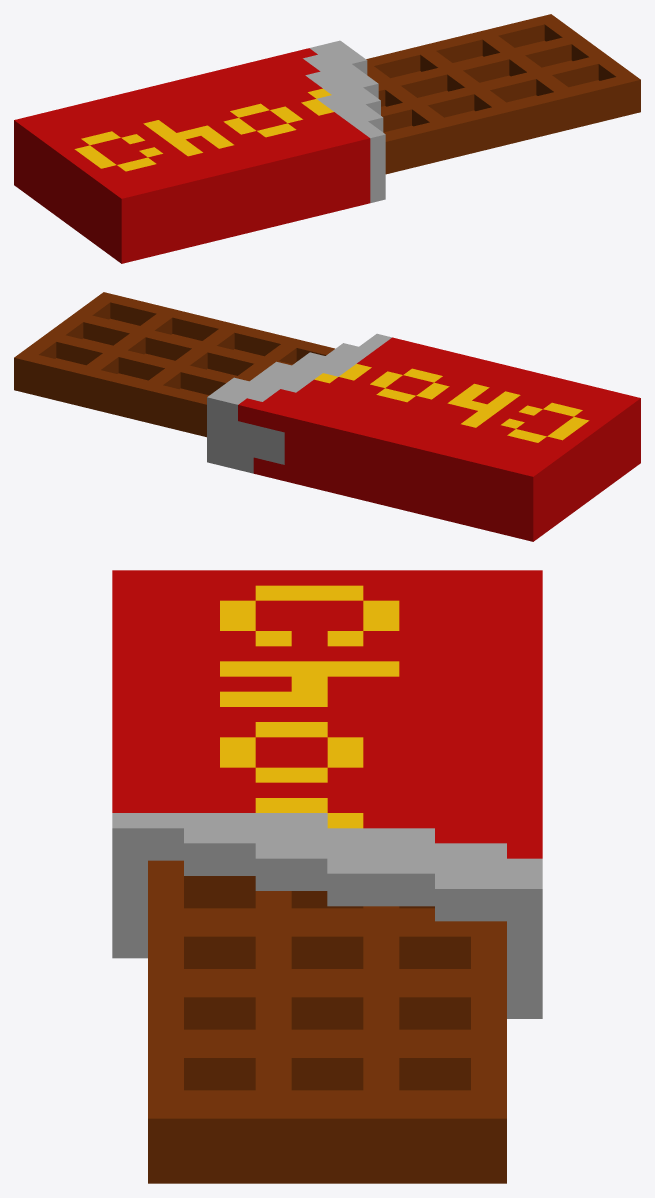
File: Chocolate.vox.obj
3 renders of one model, top to bottom at view 1: azimuth 30°, elevation 25°; view 2: azimuth 150°, elevation 25°; view 3: azimuth 270°, elevation 25°, orthographic. The views are drawn at different scales.
Size of the model in its own units: 3.4 by 0.4 by 1.2.
Materials: 1 (1 with a texture image).
